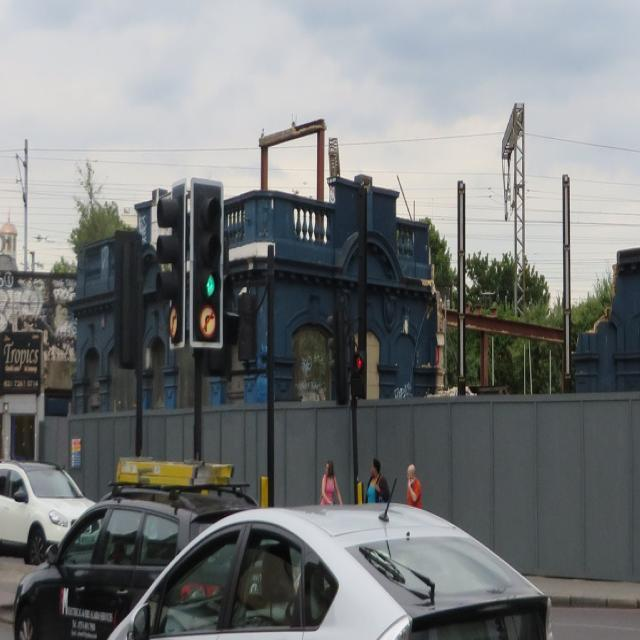off traffic light: (156, 186, 184, 305)
traffic light: (190, 178, 223, 306)
